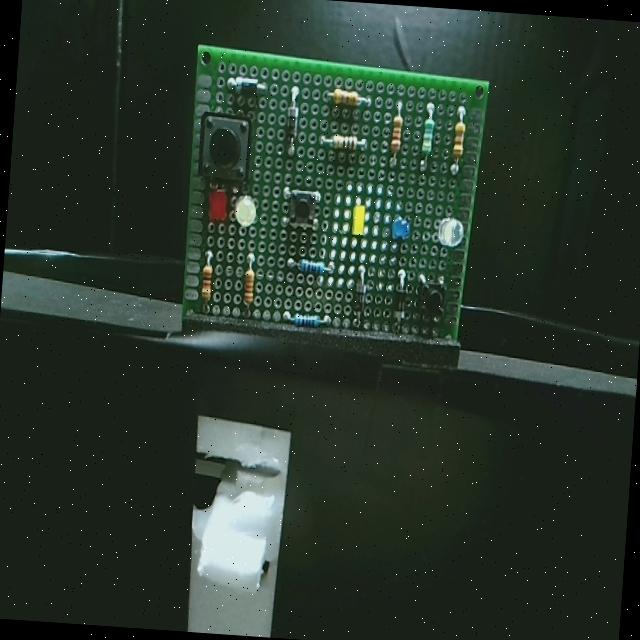diode: (344, 266, 376, 328), (228, 68, 268, 106), (392, 269, 412, 332), (283, 96, 300, 158)
led: (430, 208, 468, 260), (198, 181, 232, 234), (231, 190, 259, 237), (390, 206, 420, 244), (347, 199, 370, 237)
resistor: (324, 126, 372, 162), (412, 106, 439, 166), (195, 240, 218, 309), (284, 248, 333, 278), (326, 81, 372, 112), (239, 252, 261, 316), (446, 115, 472, 168), (280, 308, 332, 333), (390, 111, 410, 165)
switch: (195, 109, 258, 190), (280, 181, 322, 238), (412, 270, 448, 328)
